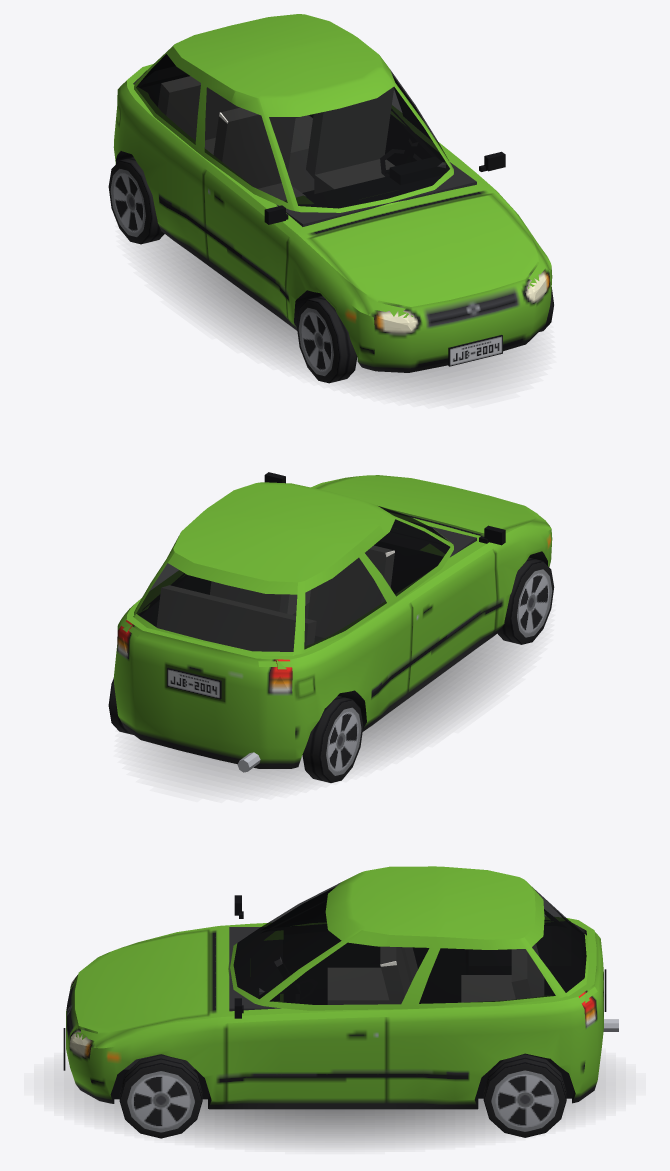
The model's file is jujuba.glb.
The picture shows the model from 3 angles, top to bottom: view 1: azimuth 30°, elevation 25°; view 2: azimuth 150°, elevation 25°; view 3: azimuth 270°, elevation 25°; orthographic projection. The views are drawn at different scales.
Parts seen in each view (by area): view 1: Carroceria, Interior, Capo_malha, Porta_D_malha, Sombra, Roda_DD, Roda_TD, Porta_E_malha, Farol; view 2: Carroceria, Tampa_malha, Interior, Porta_D_malha, Sombra, Capo_malha, Roda_TD, Roda_DD; view 3: Carroceria, Interior, Porta_E_malha, Sombra, Capo_malha, Roda_DE, Roda_TE, Tampa_malha, Porta_D_malha.
Boxes of the visible parts, left/top/right/bottom form: Carroceria: left=113, top=14, right=552, bottom=372; Interior: left=133, top=66, right=476, bottom=226; Capo_malha: left=310, top=194, right=550, bottom=317; Porta_D_malha: left=203, top=91, right=294, bottom=317; Sombra: left=141, top=234, right=529, bottom=394; Roda_DD: left=296, top=296, right=357, bottom=383; Roda_TD: left=108, top=157, right=164, bottom=244; Porta_E_malha: left=380, top=56, right=505, bottom=171; Farol: left=376, top=274, right=549, bottom=332; Carroceria: left=113, top=477, right=552, bottom=772; Tampa_malha: left=129, top=552, right=297, bottom=747; Interior: left=138, top=520, right=476, bottom=651; Porta_D_malha: left=379, top=513, right=505, bottom=689; Sombra: left=139, top=634, right=523, bottom=788; Capo_malha: left=316, top=475, right=549, bottom=533; Roda_TD: left=302, top=696, right=363, bottom=782; Roda_DD: left=497, top=557, right=554, bottom=644; Carroceria: left=63, top=866, right=618, bottom=1109; Interior: left=124, top=900, right=586, bottom=1069; Porta_E_malha: left=226, top=930, right=386, bottom=1101; Sombra: left=64, top=1070, right=605, bottom=1145; Capo_malha: left=81, top=930, right=208, bottom=1047; Roda_DE: left=119, top=1054, right=202, bottom=1138; Roda_TE: left=483, top=1054, right=566, bottom=1137; Tampa_malha: left=524, top=881, right=606, bottom=1071; Porta_D_malha: left=234, top=888, right=333, bottom=929.
Size of the model in its own units: 2.3 by 1.41 by 4.32.
12 materials, 6 textured.
